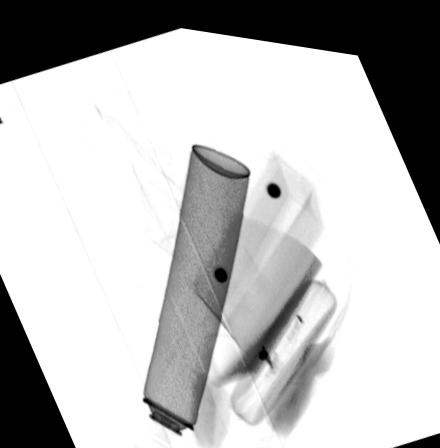Sprayer: (130, 135, 253, 448)
